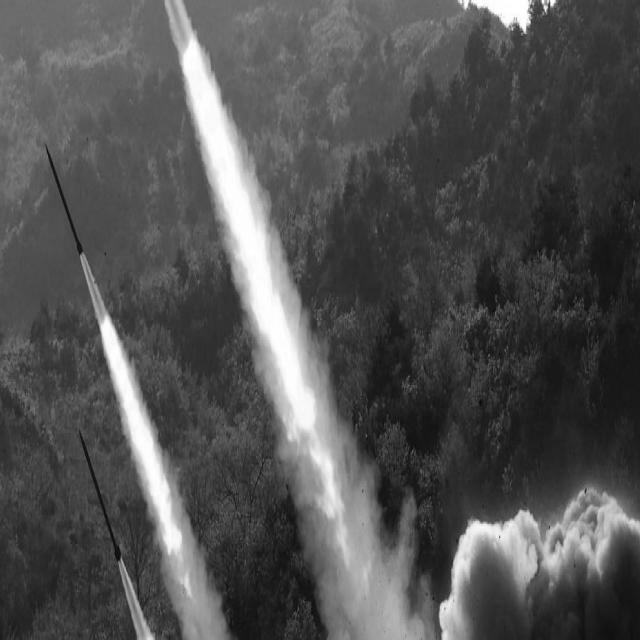missile: (76, 423, 124, 576), (39, 131, 87, 259)
